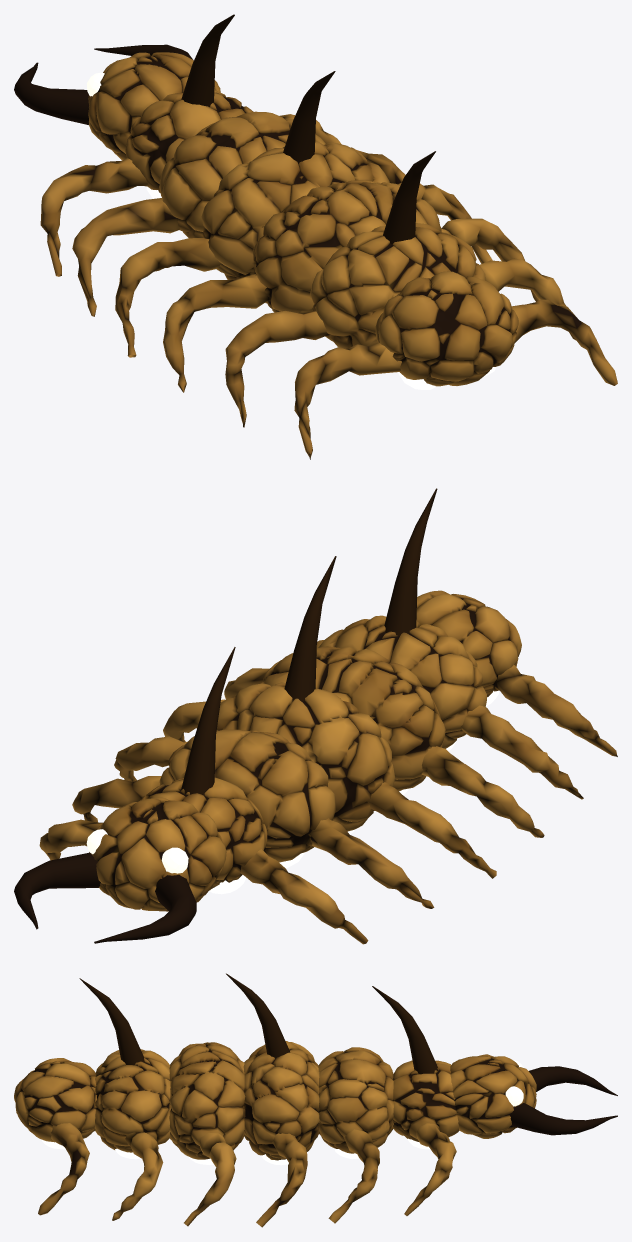
File: kethrak_large.glb
3 renders of one model, top to bottom at view 1: azimuth 30°, elevation 25°; view 2: azimuth 150°, elevation 25°; view 3: azimuth 270°, elevation 25°, orthographic. The views are drawn at different scales.
Visible parts, largest first — view 1: kethrak_large.001; view 2: kethrak_large.001; view 3: kethrak_large.001.
Boxes of the visible parts, box(x1,y1,x2,y2) form: kethrak_large.001: box(14, 14, 617, 459); kethrak_large.001: box(14, 488, 617, 944); kethrak_large.001: box(14, 973, 617, 1227).
Bounding box in the file's own units: 5.12 × 3.48 × 10.
